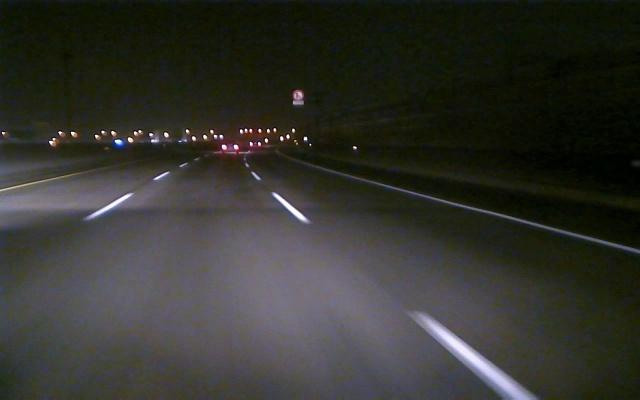lane: (270, 190, 537, 397), (320, 168, 639, 257), (80, 192, 135, 224)
